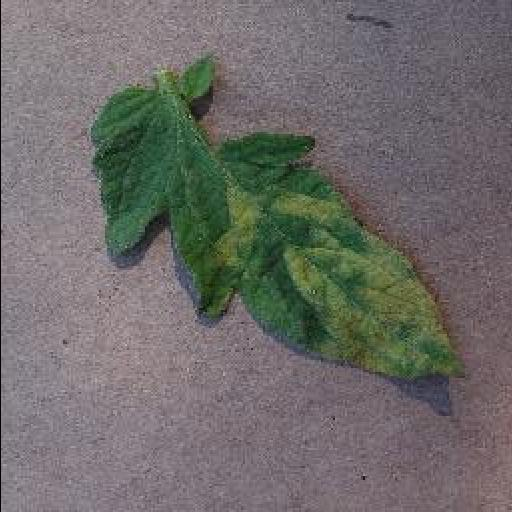disease_tomato: (86, 83, 474, 384)
